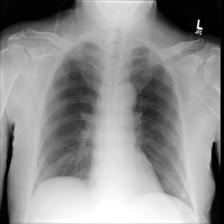normal: (28, 32, 200, 216)
